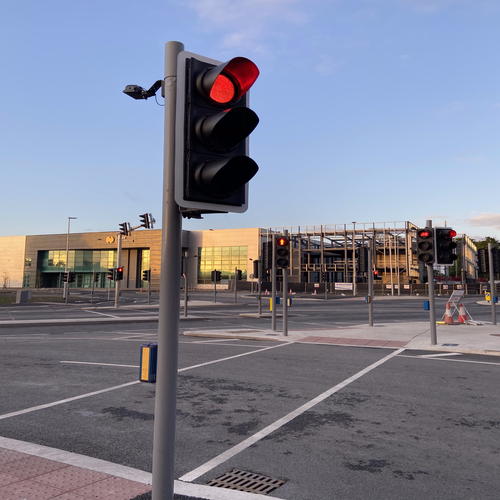Traffic Light: (157, 34, 261, 213), (271, 230, 296, 275), (437, 225, 460, 270), (417, 229, 435, 268)
